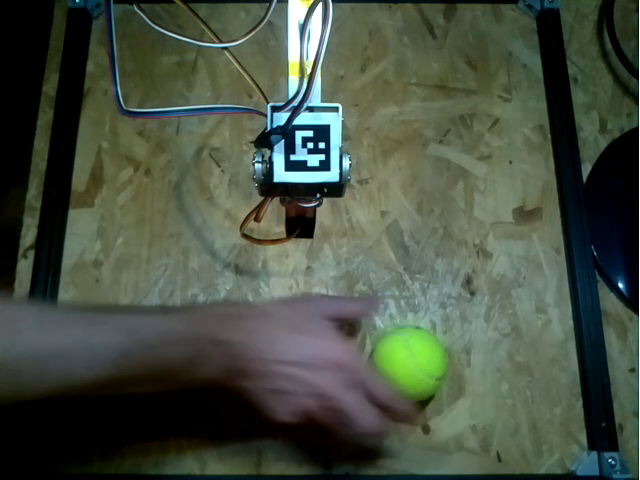tennis_ball: (372, 325, 451, 400)
